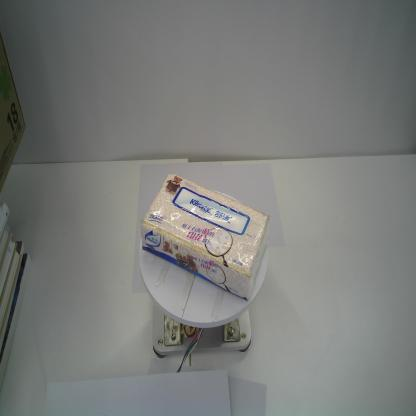Tissue: (139, 171, 271, 304)
